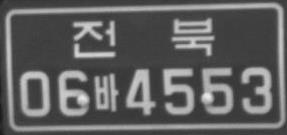0: (19, 69, 51, 117)
3: (239, 66, 273, 114)
4: (125, 68, 156, 115)
5: (162, 67, 195, 116), (201, 67, 234, 114)
6: (57, 69, 89, 117)
바: (93, 72, 119, 112)
전북_D: (73, 17, 214, 58)
